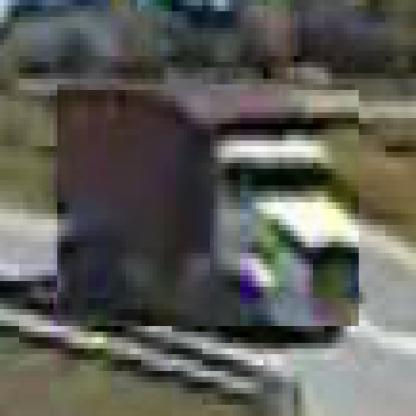container: (54, 85, 360, 333)
